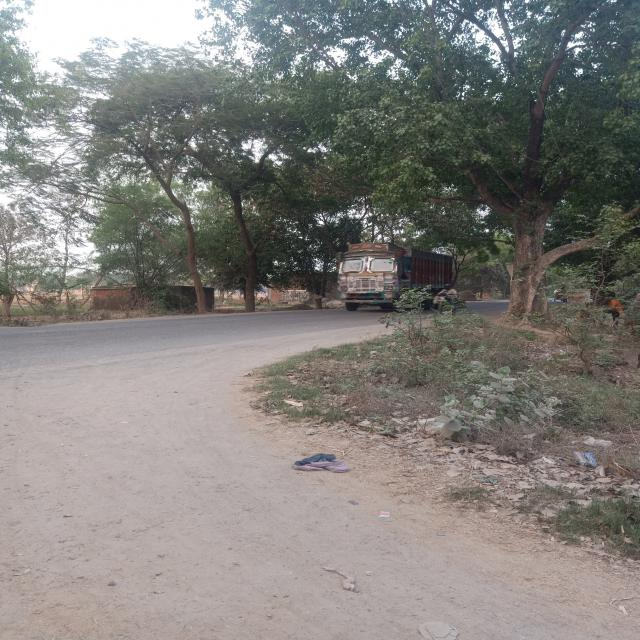truck: (336, 240, 462, 305)
